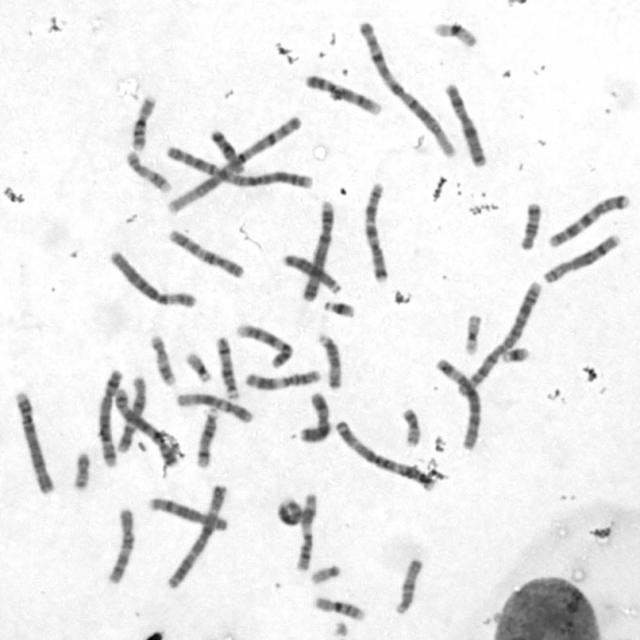A1: (358, 18, 457, 158), (165, 116, 304, 215)
A2: (456, 280, 544, 397), (166, 145, 315, 190)
A3: (334, 419, 434, 492), (166, 483, 228, 592)
B4: (13, 390, 56, 496), (299, 198, 337, 302)
B5: (114, 387, 180, 468), (97, 368, 125, 468)
C10: (168, 228, 248, 280), (107, 508, 137, 585)
C11: (294, 492, 318, 573), (243, 368, 322, 392)
C12: (115, 375, 148, 455), (176, 391, 254, 424)
C6: (110, 249, 198, 309), (434, 357, 484, 452)
C7: (548, 195, 630, 249), (362, 181, 392, 285)
C8: (542, 231, 622, 286), (148, 495, 230, 533)
C9: (304, 72, 384, 118), (236, 322, 294, 368)
D13: (282, 251, 343, 295), (275, 495, 304, 528)
D14: (213, 335, 240, 400), (197, 407, 219, 468)
D15: (394, 560, 424, 615), (318, 332, 343, 392)
E16: (131, 96, 157, 152), (314, 596, 365, 622)
E17: (125, 150, 173, 193), (150, 333, 178, 388)
E18: (209, 127, 246, 175), (519, 202, 543, 251)
F19: (432, 20, 478, 49), (464, 312, 485, 355)
F20: (399, 407, 424, 449), (72, 450, 93, 490)
G21: (322, 300, 356, 320), (500, 344, 530, 366)
G22: (183, 351, 213, 384), (308, 565, 342, 586)
X: (442, 80, 488, 168), (295, 391, 333, 446)
